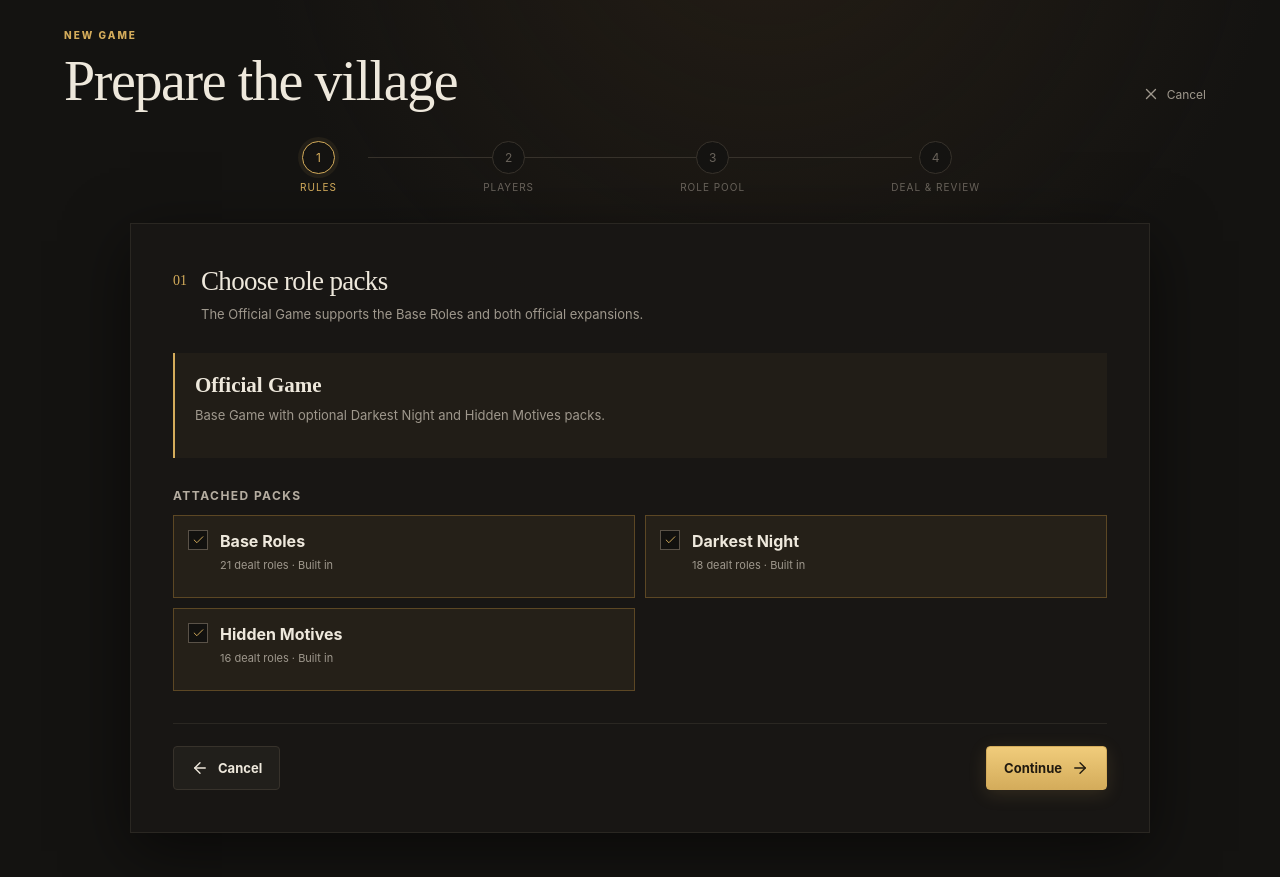
Test case: Audit: editor and setup interactions › restores possible Spirits and shows the Medium Spirit check when editing a setup
Click the button "Continue": (1047, 768) [986,746,1107,790]
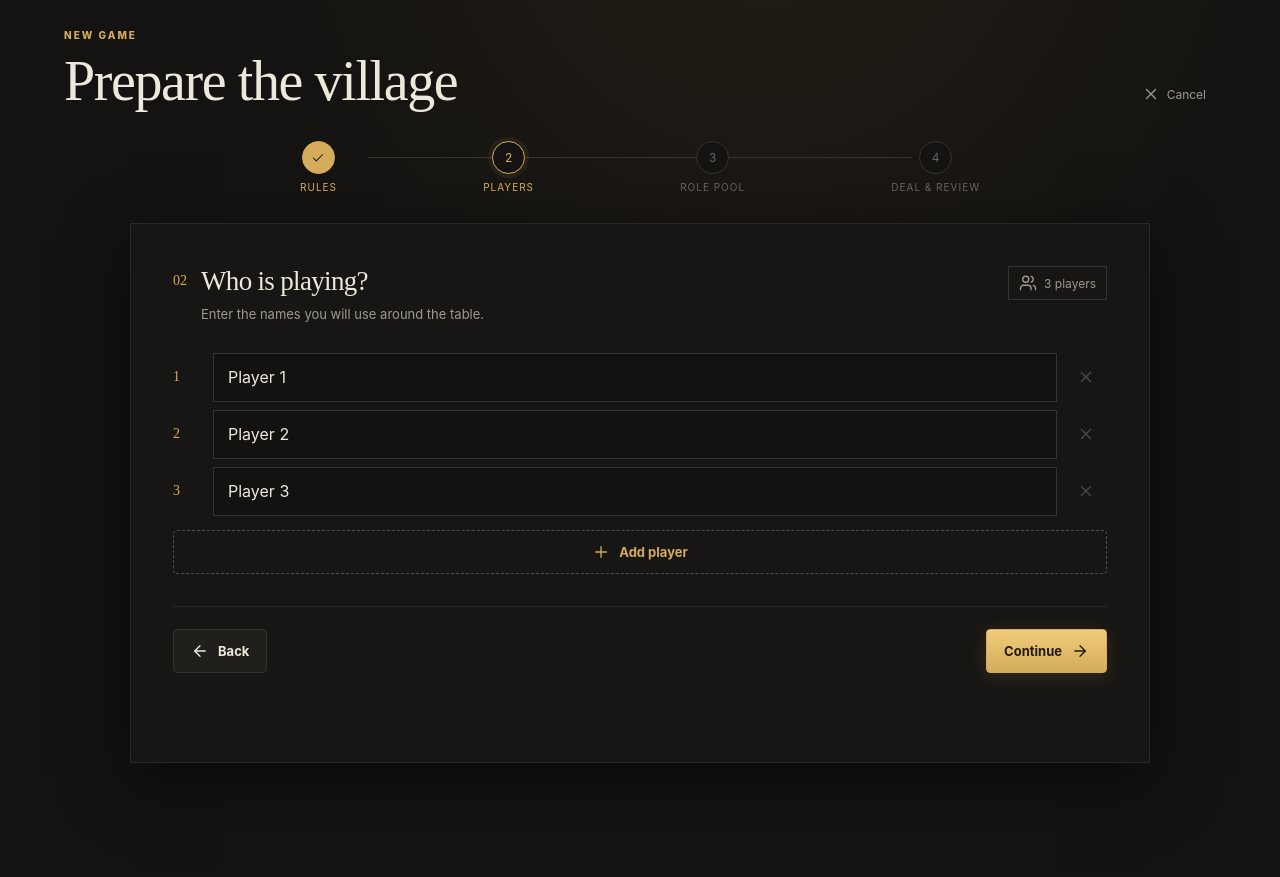
Click the button "Continue": (1047, 650) [986,628,1107,672]
(page scrolled)
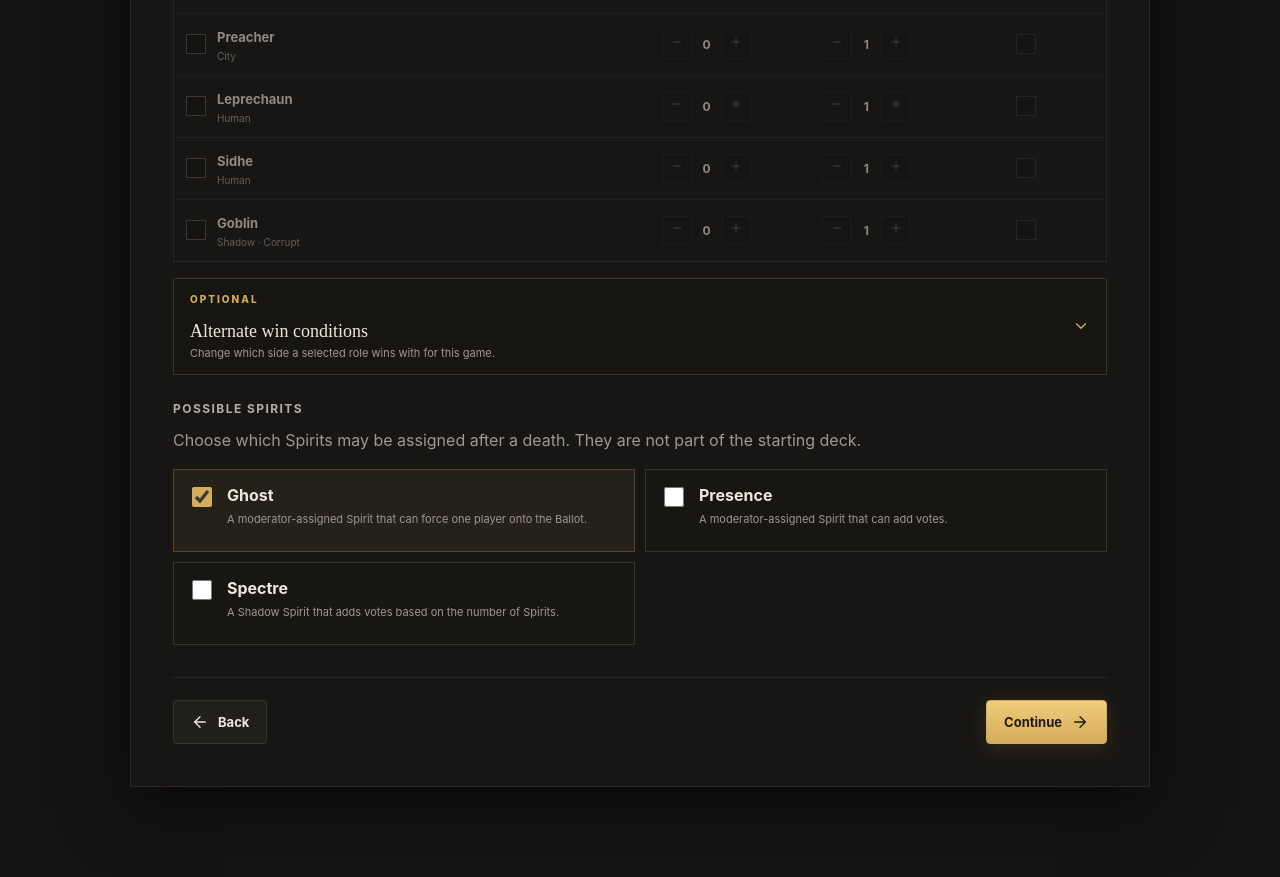
Click the button "Continue": (1047, 722) [986,700,1107,744]
(page scrolled)
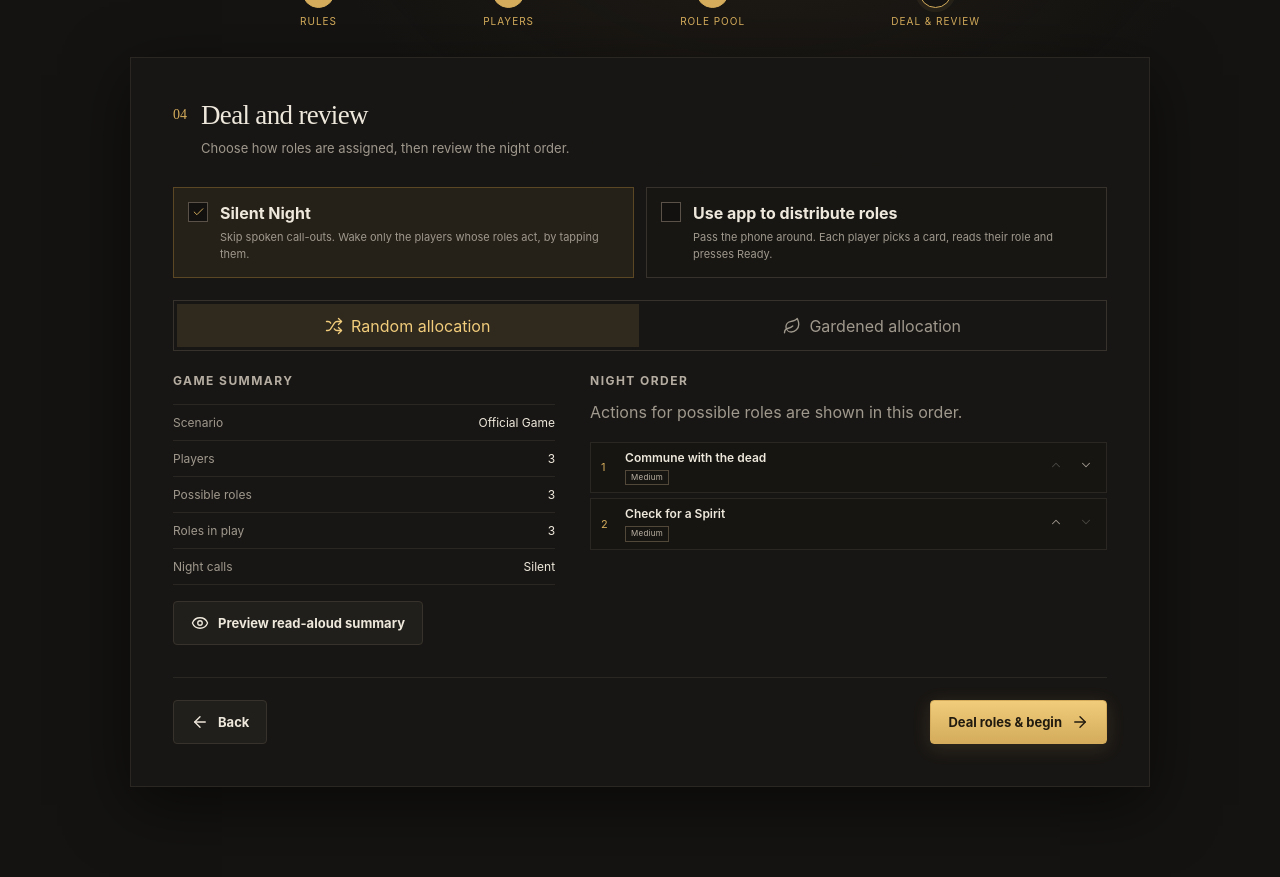
Now the text "Check for a Spirit" is shown, box [625,506,725,521]
